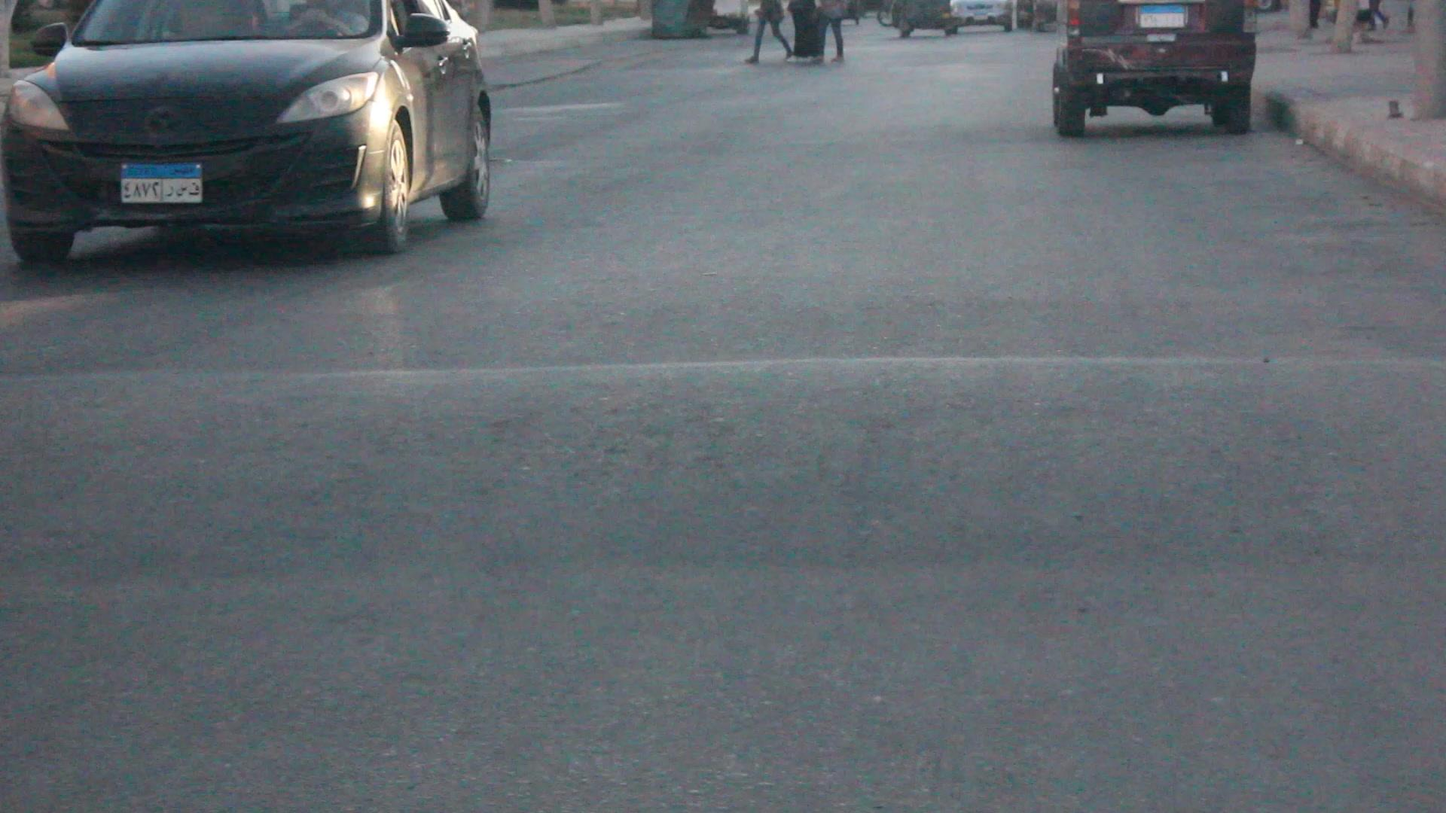Bump: (0, 359, 1433, 612)
